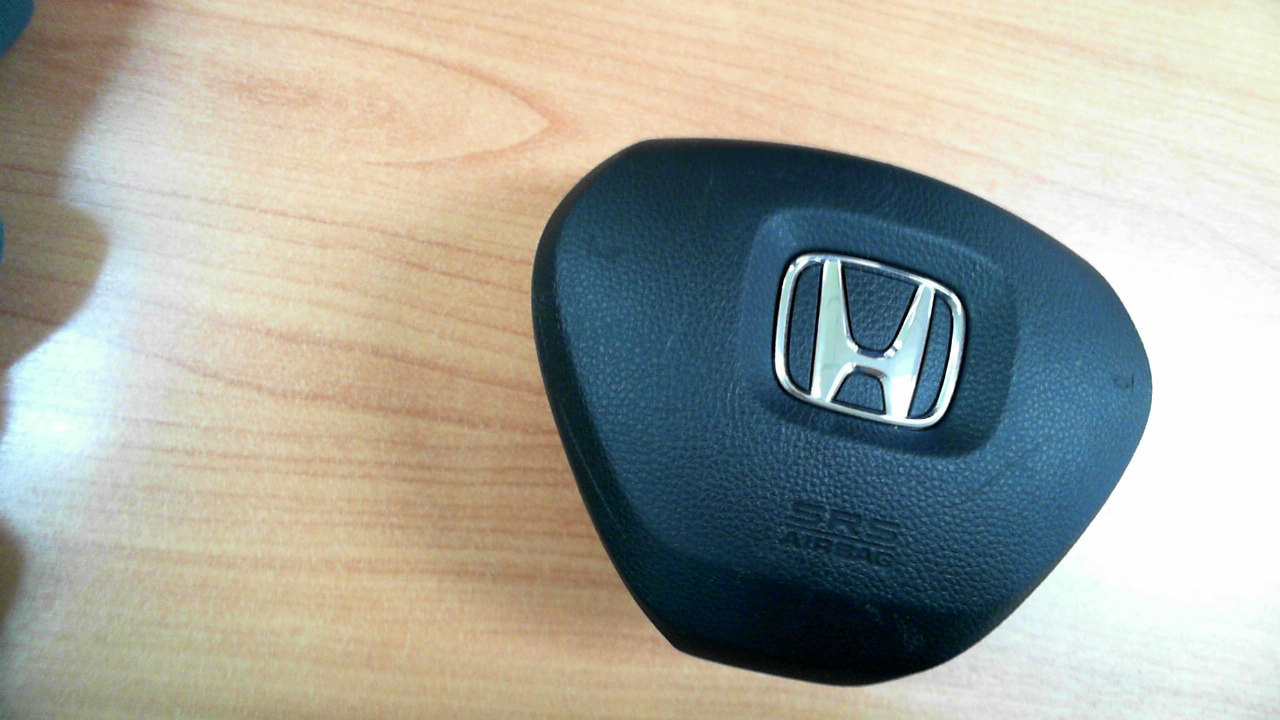Airbag: (530, 138, 1152, 689)
Honda: (774, 254, 966, 428)
